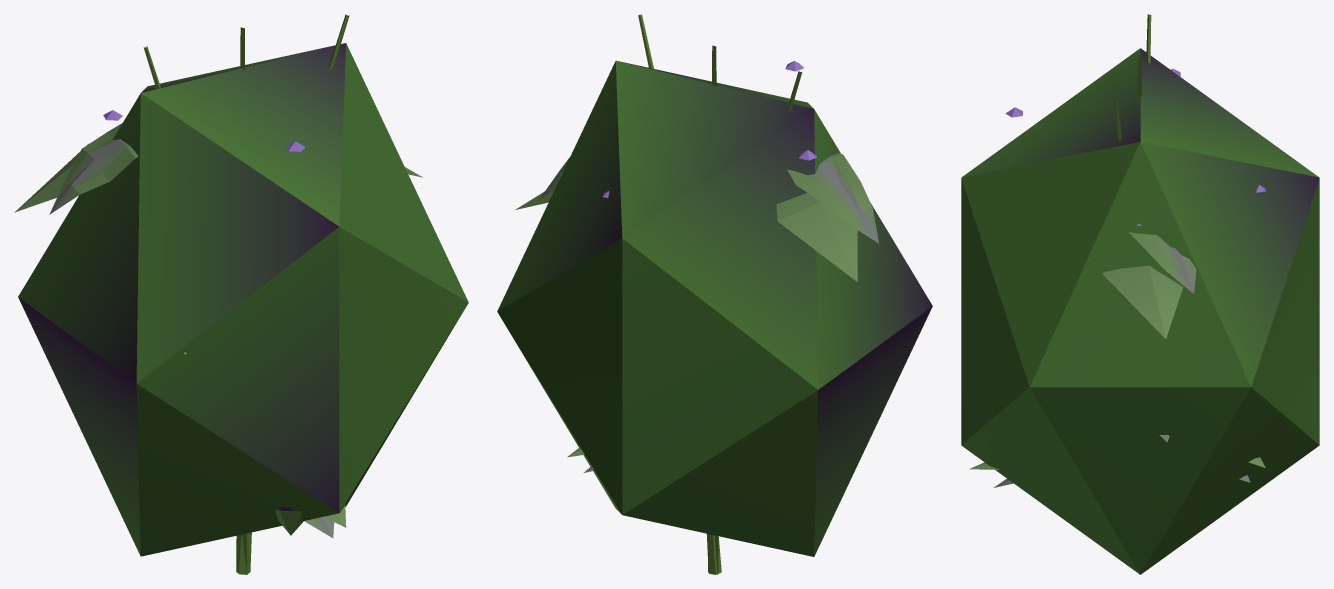
File: eggplant.glb
3 renders of one model, left to right at view 1: azimuth 30°, elevation 25°; view 2: azimuth 150°, elevation 25°; view 3: azimuth 270°, elevation 25°, orthographic. The views are drawn at different scales.
Parts seen in each view (by area): view 1: leaves (×3), stem; view 2: leaves (×3), stem; view 3: leaves (×3).
Boxes of the visible parts, box(x1,y1,x2,y2) form: leaves (×3): box(14, 43, 468, 556); stem: box(143, 14, 349, 574); leaves (×3): box(497, 60, 932, 556); stem: box(638, 14, 802, 574); leaves (×3): box(961, 48, 1319, 574).
Bounding box in the file's own units: 0.7331 × 1 × 0.637.
